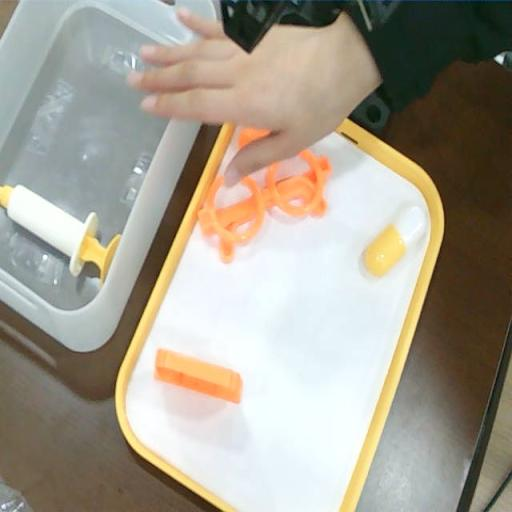hospital: (117, 36, 362, 189)
